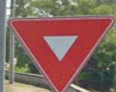cedeaza: (7, 14, 115, 91)
